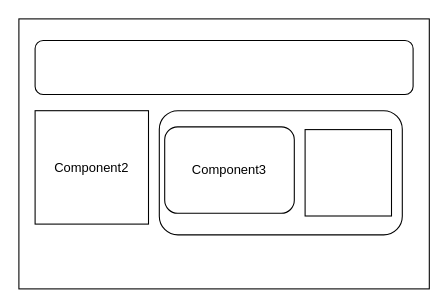
The diagram is 448 pixels wide and 308 high, and some of its shapes have lost their labels. Here are the shapes that lost their labels. From the top down, the box of each, then its label:
(34, 39, 413, 94): Component1
(304, 129, 392, 216): Component4
